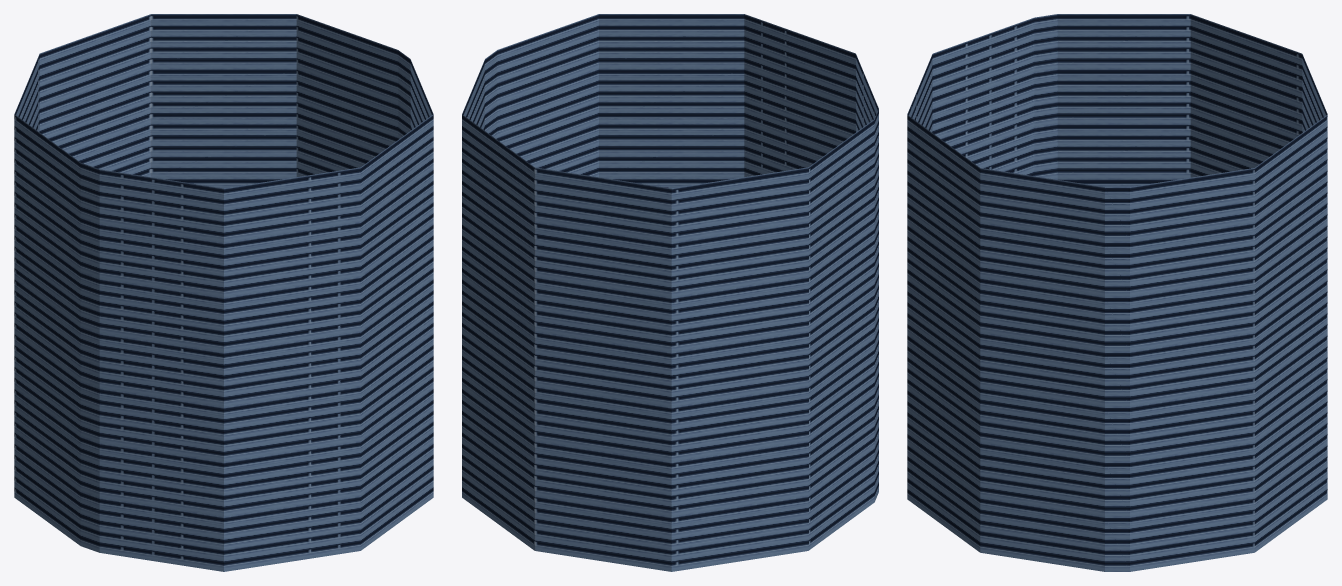
The model's file is GHQ_zhongting.FBX.
3 renders of one model, left to right at view 1: azimuth 30°, elevation 25°; view 2: azimuth 150°, elevation 25°; view 3: azimuth 270°, elevation 25°, orthographic.
Visible parts, largest first — view 1: Object017; view 2: Object017; view 3: Object017.
Boxes of the visible parts, x1,y1,x2,y2 form: Object017: (14, 14, 433, 571); Object017: (462, 14, 878, 571); Object017: (907, 14, 1327, 571).
Size of the model in its own units: 13929 by 14438 by 14299.
